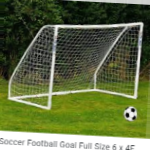goals: (7, 20, 145, 109)
